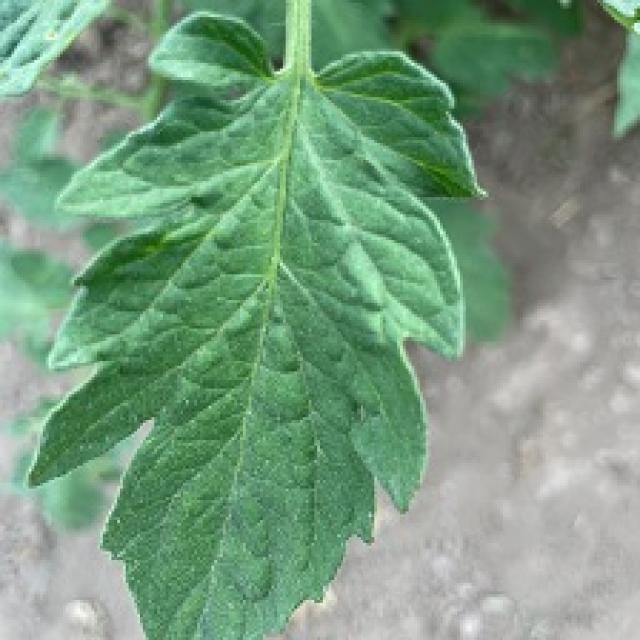Healthy: (14, 0, 499, 640)
